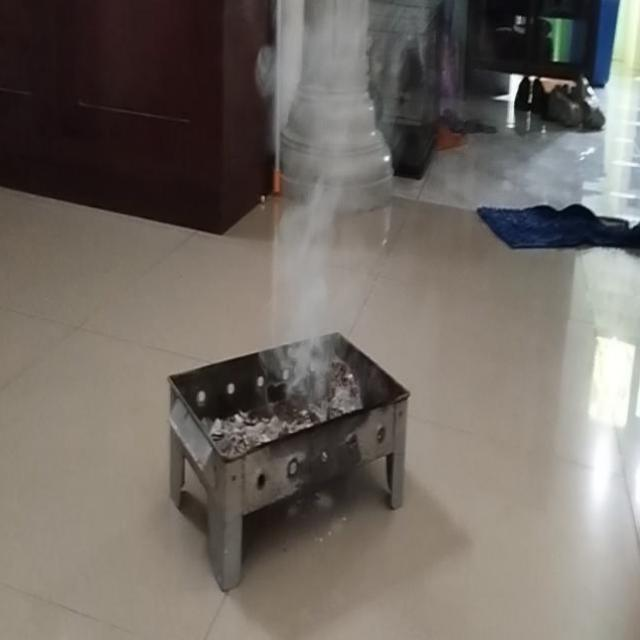fire: (252, 0, 432, 167), (268, 168, 356, 398)
